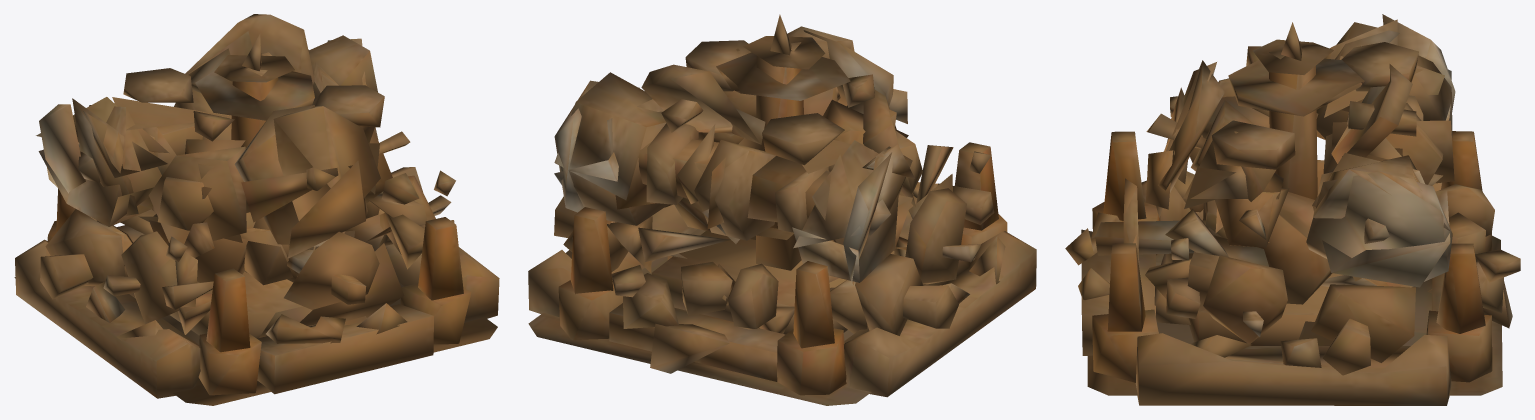
File: salvage-gears.glb
The picture shows the model from 3 angles, left to right: view 1: azimuth 30°, elevation 25°; view 2: azimuth 150°, elevation 25°; view 3: azimuth 270°, elevation 25°; orthographic projection. The views are drawn at different scales.
Parts seen in each view (by area): view 1: salvage-gears; view 2: salvage-gears; view 3: salvage-gears.
Boxes of the visible parts, <box> form: salvage-gears: <box>14,14,499,405</box>; salvage-gears: <box>528,14,1036,405</box>; salvage-gears: <box>1065,14,1520,405</box>.
Bounding box in the file's own units: 0.85 × 0.6091 × 0.8476.
1 material, 1 textured.
